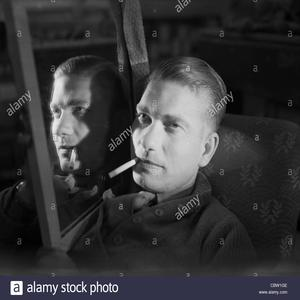cigarette: (106, 156, 139, 179), (70, 145, 77, 170)
